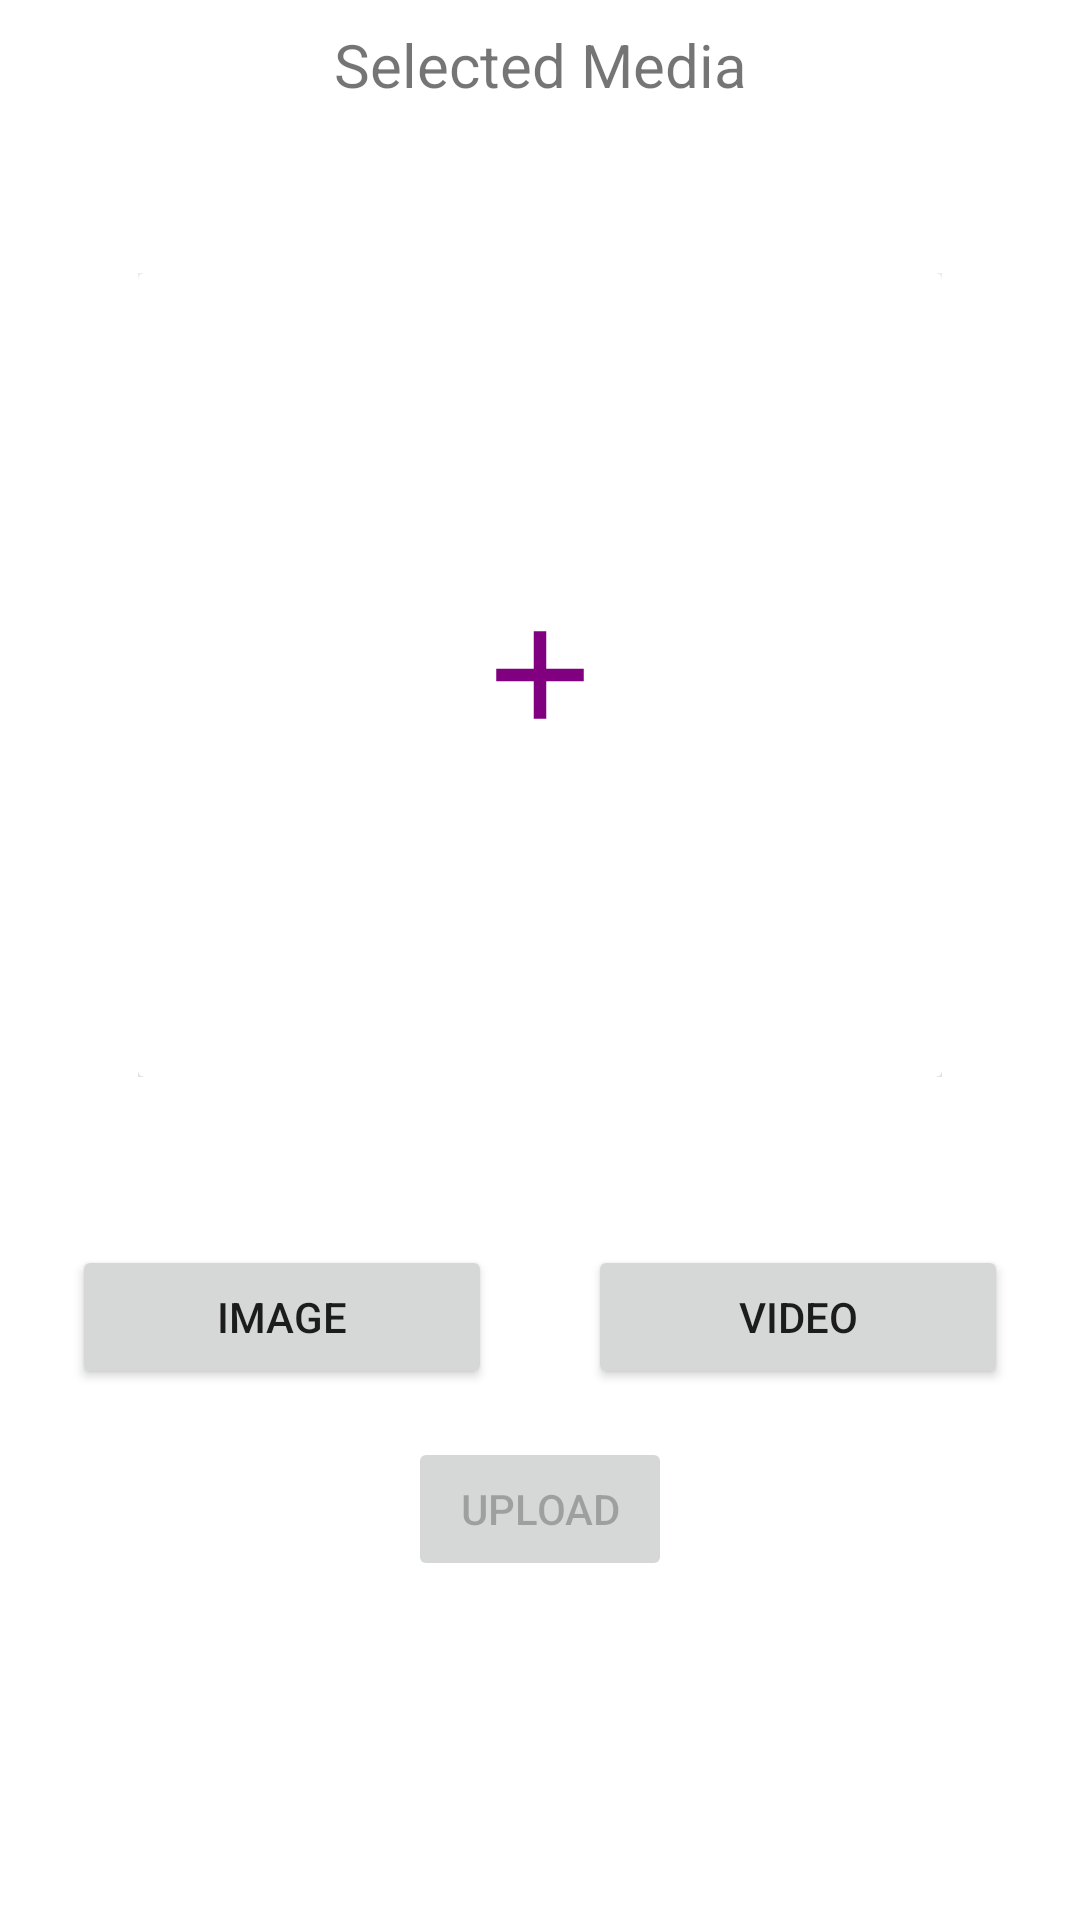

Icons on this 1080px×1920px Android screen, each with the point to tap as (x=x, y=y):
add: (x=540, y=675)
